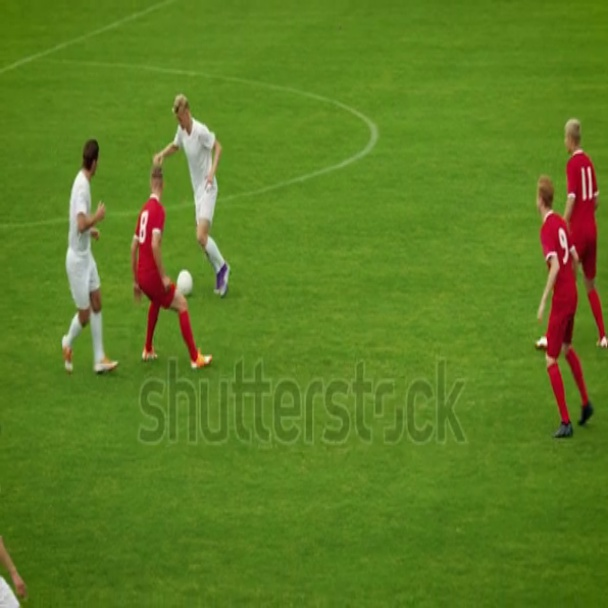ball: (178, 267, 195, 302)
